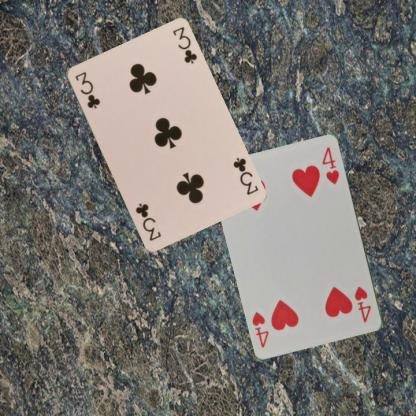3c: (230, 154, 259, 196), (72, 69, 101, 110)
4h: (352, 284, 373, 324)
